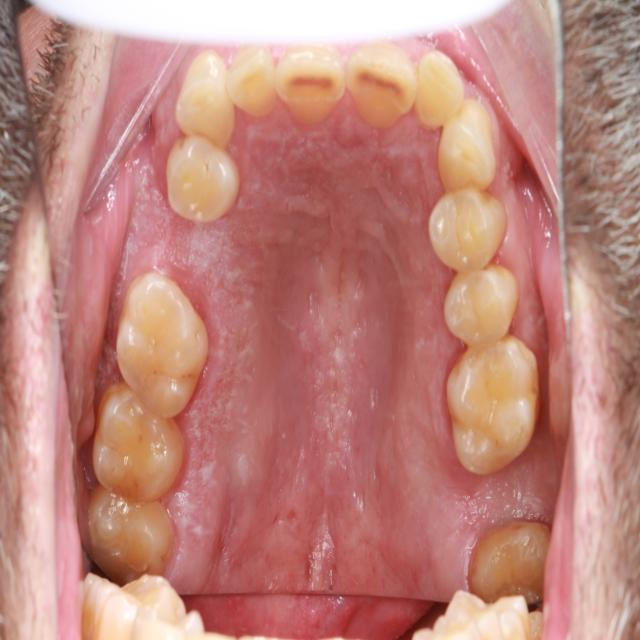tooth: (436, 318, 546, 492), (112, 258, 221, 424), (87, 374, 204, 514), (74, 470, 182, 589), (422, 179, 521, 292), (159, 122, 249, 236), (339, 39, 426, 153), (467, 500, 553, 613), (438, 250, 526, 356), (435, 86, 507, 215), (269, 44, 353, 147), (171, 50, 250, 153), (411, 35, 471, 153), (223, 41, 286, 135)
